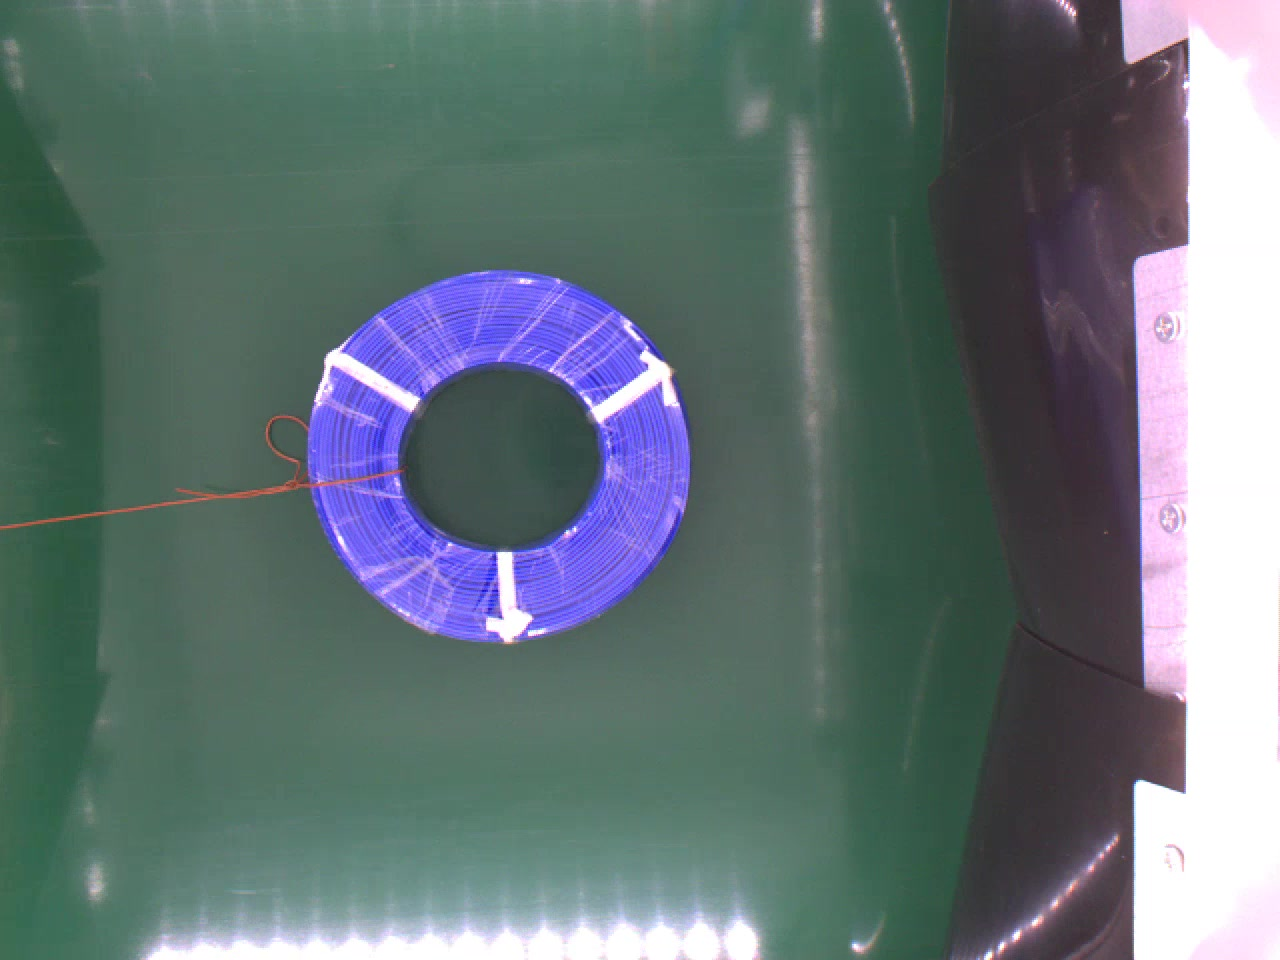blue: (305, 264, 701, 645)
